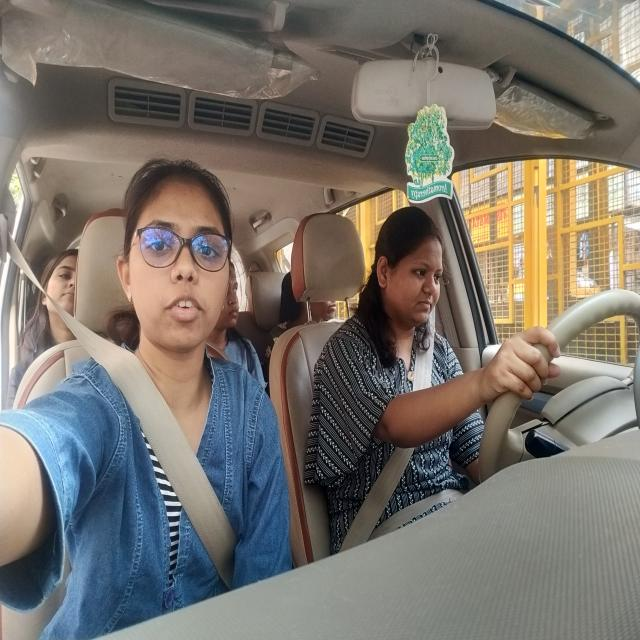person: (119, 154, 234, 360), (372, 210, 446, 336), (35, 247, 78, 333), (223, 267, 248, 334), (298, 300, 344, 327)
